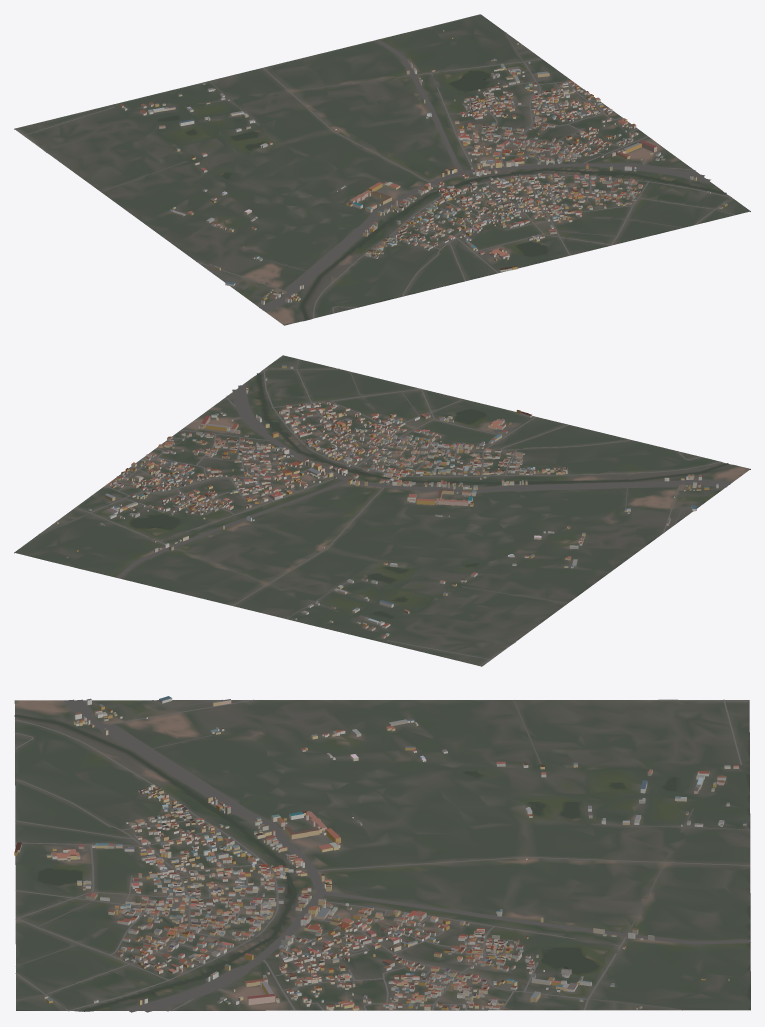
3 renders of one model, top to bottom at view 1: azimuth 30°, elevation 25°; view 2: azimuth 150°, elevation 25°; view 3: azimuth 270°, elevation 25°, orthographic. The views are drawn at different scales.
Visible parts, largest first — view 1: ground, buildings, roads, water; view 2: ground, buildings, roads, water; view 3: ground, buildings, roads, water.
Boxes of the visible parts, left/top/right/bottom form: ground: left=14, top=14, right=750, bottom=325; buildings: left=120, top=30, right=727, bottom=304; roads: left=16, top=32, right=734, bottom=318; water: left=158, top=70, right=726, bottom=320; ground: left=14, top=355, right=750, bottom=666; buildings: left=56, top=365, right=718, bottom=638; roads: left=39, top=359, right=731, bottom=665; water: left=130, top=373, right=728, bottom=618; ground: left=14, top=700, right=750, bottom=1011; buildings: left=14, top=696, right=746, bottom=1010; roads: left=15, top=699, right=750, bottom=1012; water: left=14, top=714, right=676, bottom=1011.
Size of the model in its own units: 1418 by 19.08 by 1406.
